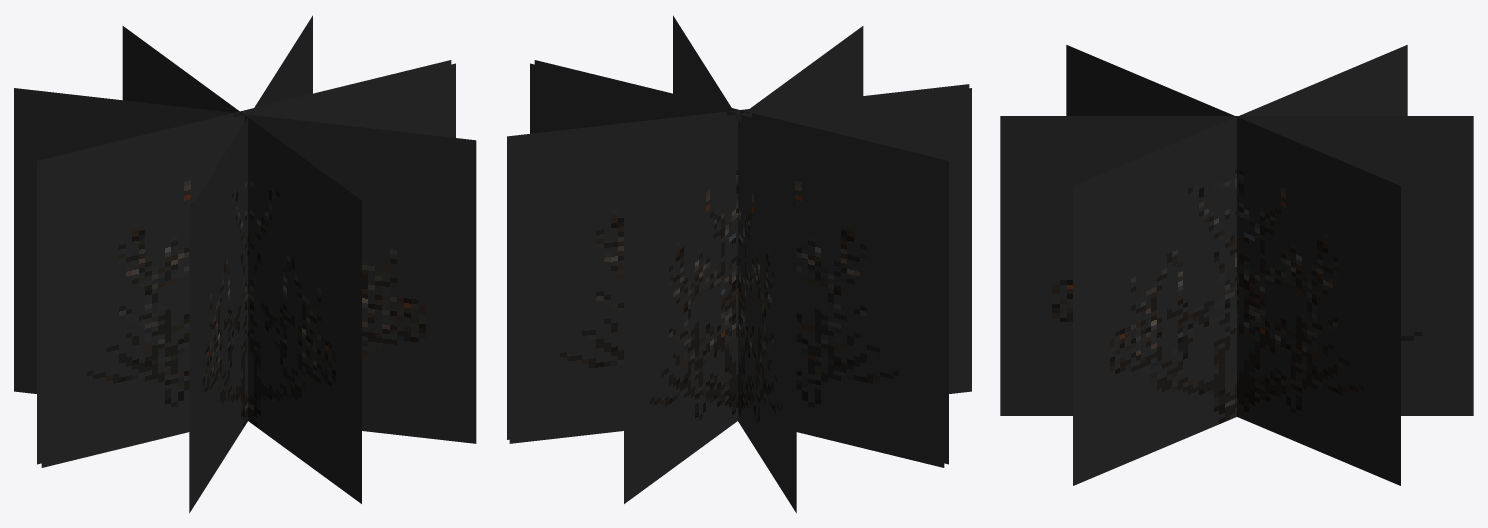
Rendered from bush02_winter.glb.
3 views of the same model, side by side, from view 1: azimuth 30°, elevation 25°; view 2: azimuth 150°, elevation 25°; view 3: azimuth 270°, elevation 25° (orthographic).
Visible parts, largest first — view 1: bush02; view 2: bush02; view 3: bush02.
Part boxes in pixels (x1,y1,x2,y2): bush02: (14, 15, 476, 513); bush02: (507, 15, 971, 513); bush02: (1000, 45, 1473, 485).
Size of the model in its own units: 1.5 by 1.05 by 1.5.
Materials: 1 (1 with a texture image).
